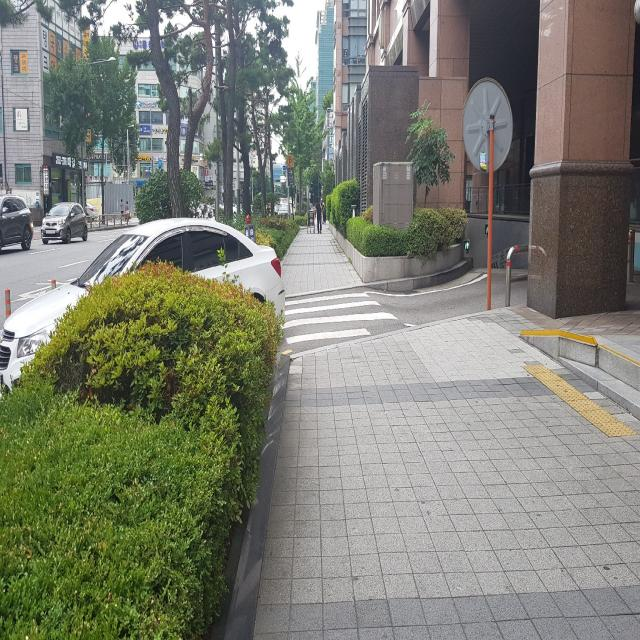횡단보도: (280, 292, 399, 346)
